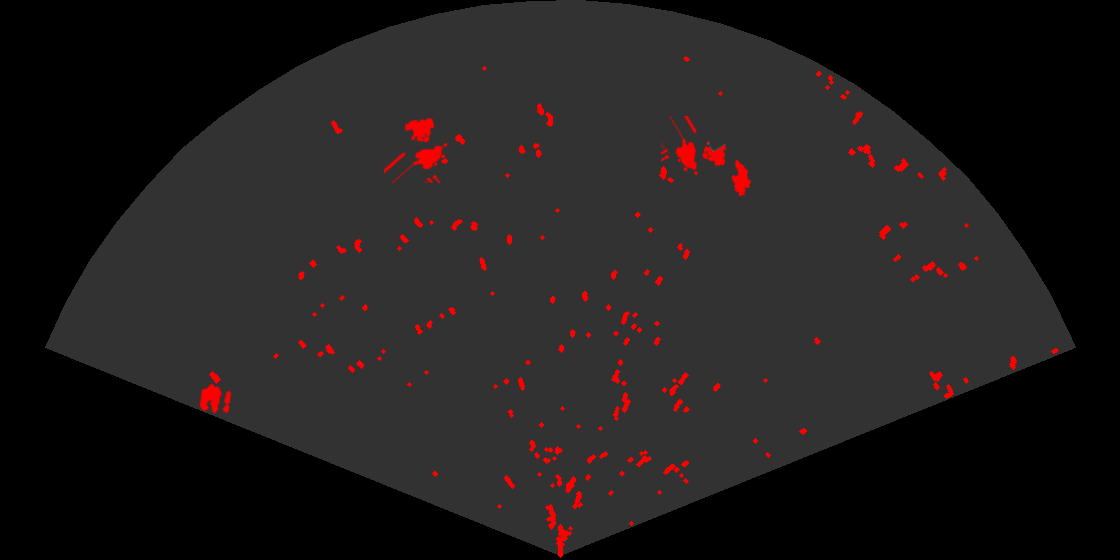AUV: (730, 158, 753, 198)
ball: (198, 382, 233, 416)
cage: (384, 116, 449, 183), (661, 116, 728, 177)
